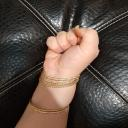Fist: (43, 24, 102, 78)
